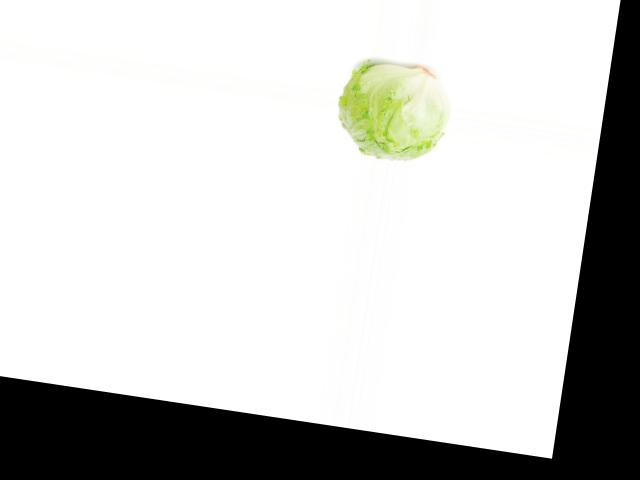lettuce: (332, 57, 449, 167)
